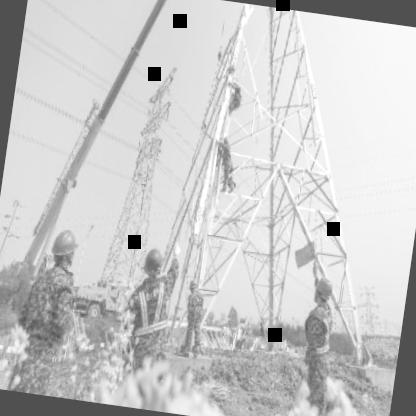helmet: (48, 225, 84, 277), (308, 270, 338, 312), (139, 244, 167, 284)
